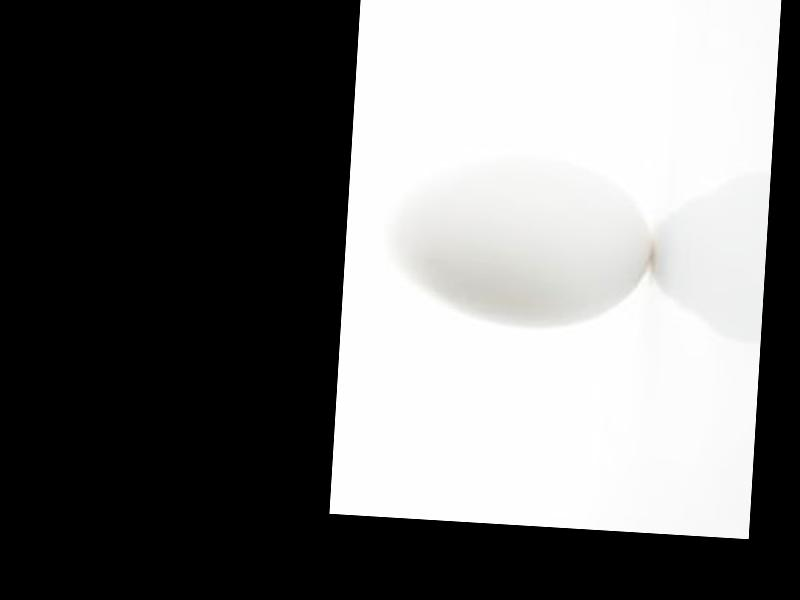Eggs: (382, 154, 656, 334)
